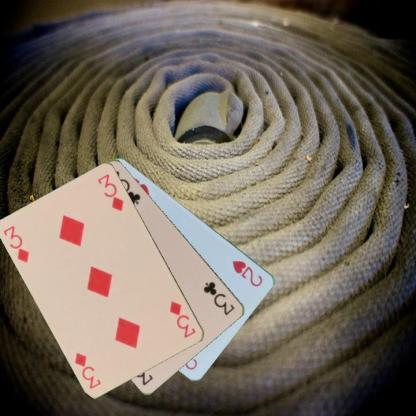2h: (230, 258, 265, 288)
3c: (200, 278, 236, 316)
3d: (167, 298, 197, 339), (1, 223, 30, 264)
